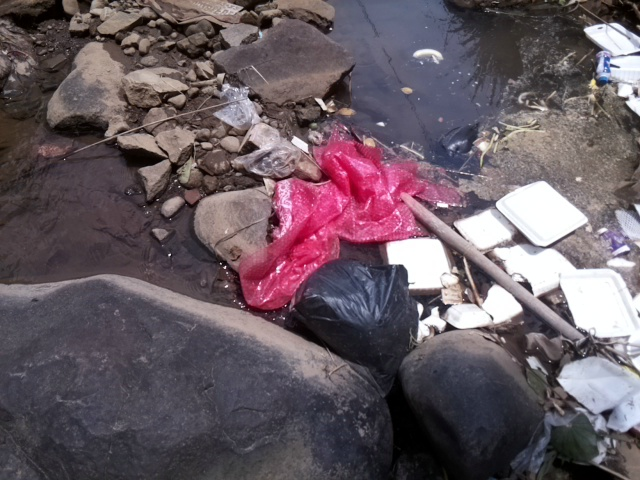Sampah_Botol_Plastik: (596, 48, 613, 86)
Sampah_Plastik: (235, 138, 456, 308), (282, 260, 426, 388), (236, 143, 307, 177), (215, 85, 263, 130), (439, 121, 483, 154)
Sampah_Styrofoam: (494, 178, 592, 250), (555, 352, 640, 432), (556, 263, 640, 342), (377, 232, 461, 293), (485, 242, 579, 295), (441, 293, 530, 331), (579, 18, 640, 58)
